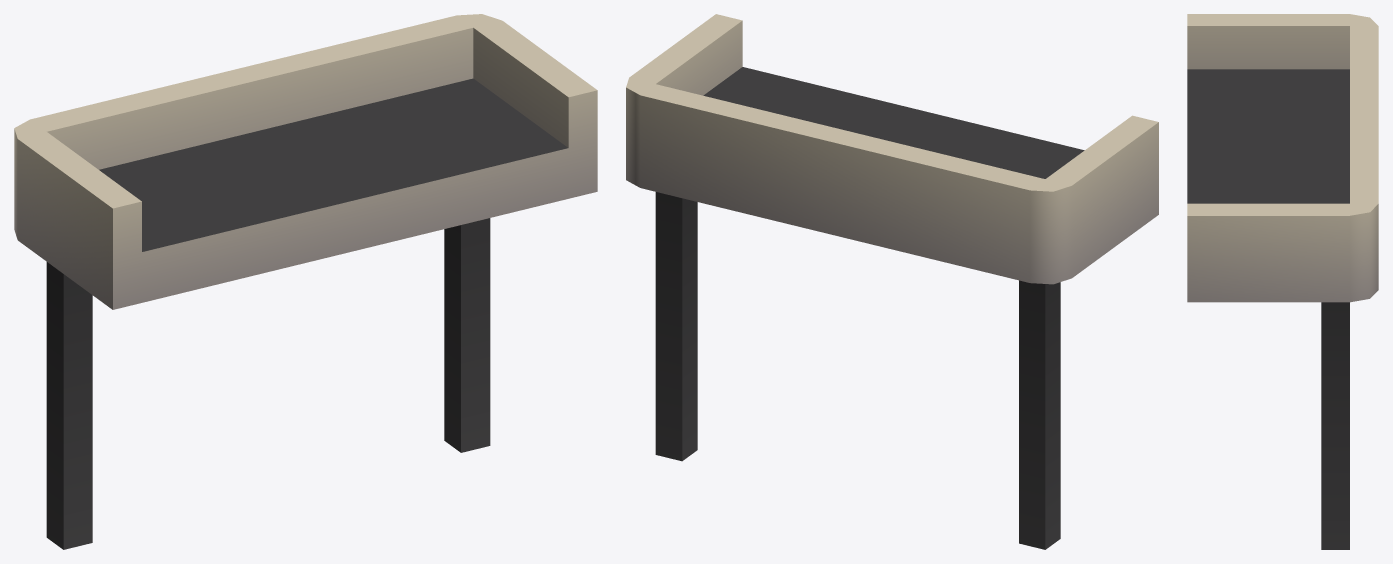
Rendered from detail-overhang.glb.
3 views of the same model, side by side, from view 1: azimuth 30°, elevation 25°; view 2: azimuth 150°, elevation 25°; view 3: azimuth 270°, elevation 25° (orthographic). The views are drawn at different scales.
Parts seen in each view (by area): view 1: detail-overhang; view 2: detail-overhang; view 3: detail-overhang.
Part boxes in pixels (<box>): detail-overhang: <box>14,14,597,549</box>; detail-overhang: <box>626,14,1158,549</box>; detail-overhang: <box>1187,14,1378,549</box>.
Bounding box in the file's own units: 0.5 × 0.4 × 0.2.
Materials: 1 (1 with a texture image).
